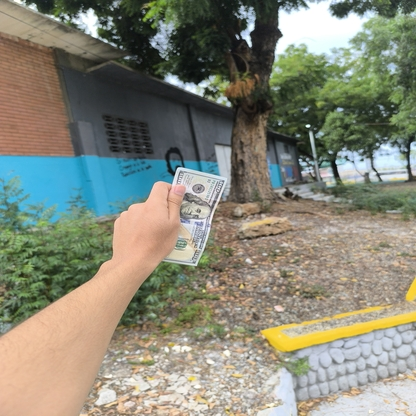one_hundred-front: (155, 168, 227, 275)
